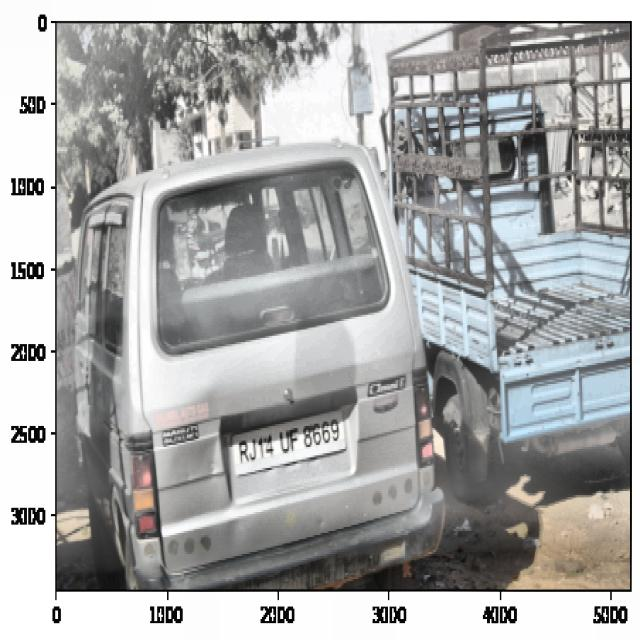license_plate: (235, 413, 343, 466)
